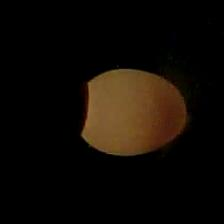infertile: (76, 67, 194, 160)
